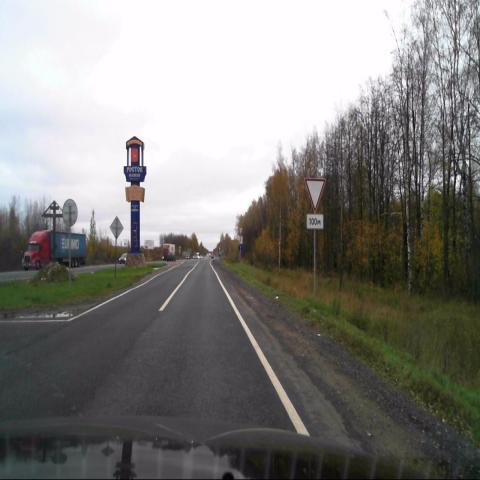8_1_1: (306, 214, 322, 229)
